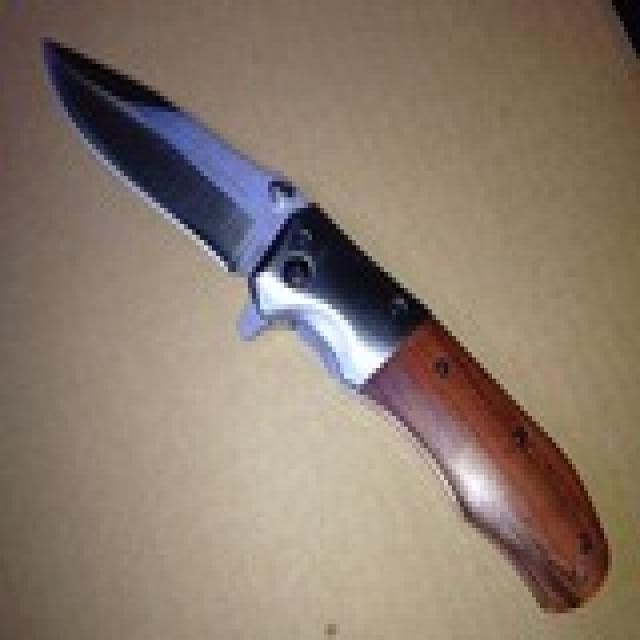Knife: (36, 19, 614, 607)
